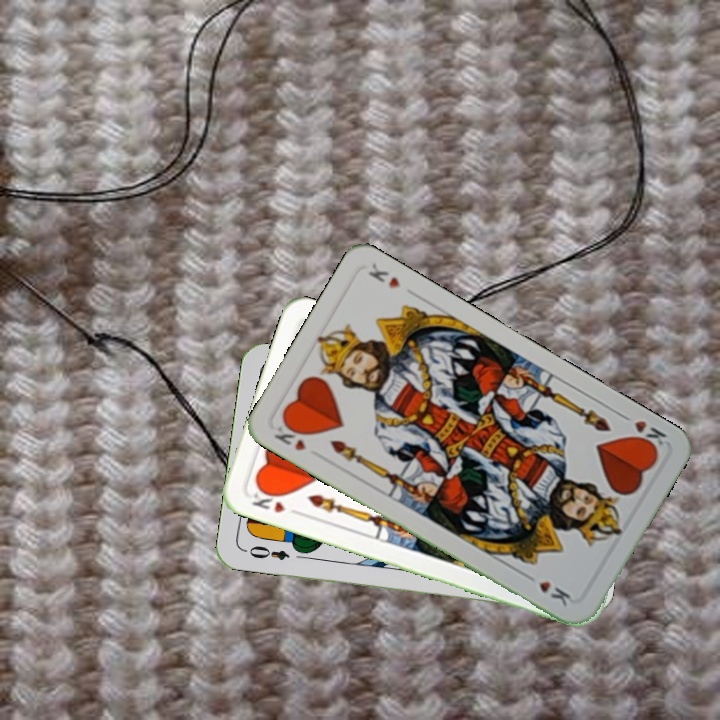EO: (245, 541, 292, 563)
HK: (626, 416, 669, 454), (270, 416, 310, 454), (248, 483, 288, 516)
